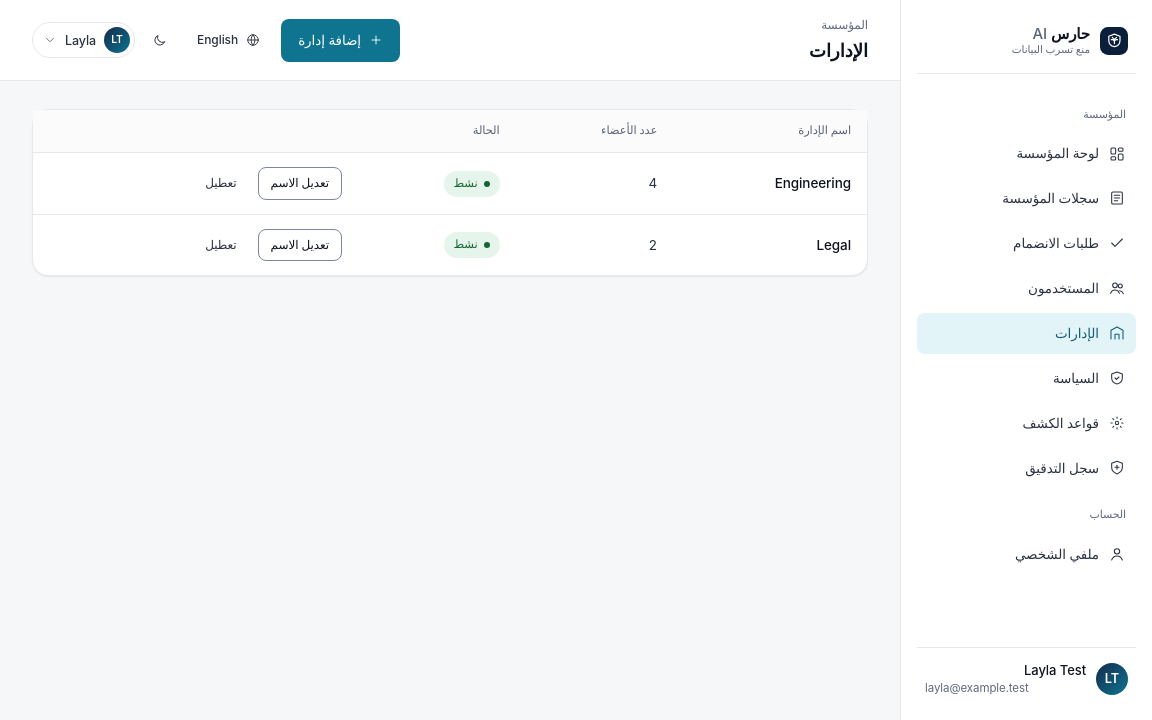
Test: departments › an empty name is refused before asking the server
What coordinates should you click on to do the following:
click the button "إضافة إدارة"
I would click on:
 (341, 40)
Its box is x1=281 y1=19 x2=400 y2=62.
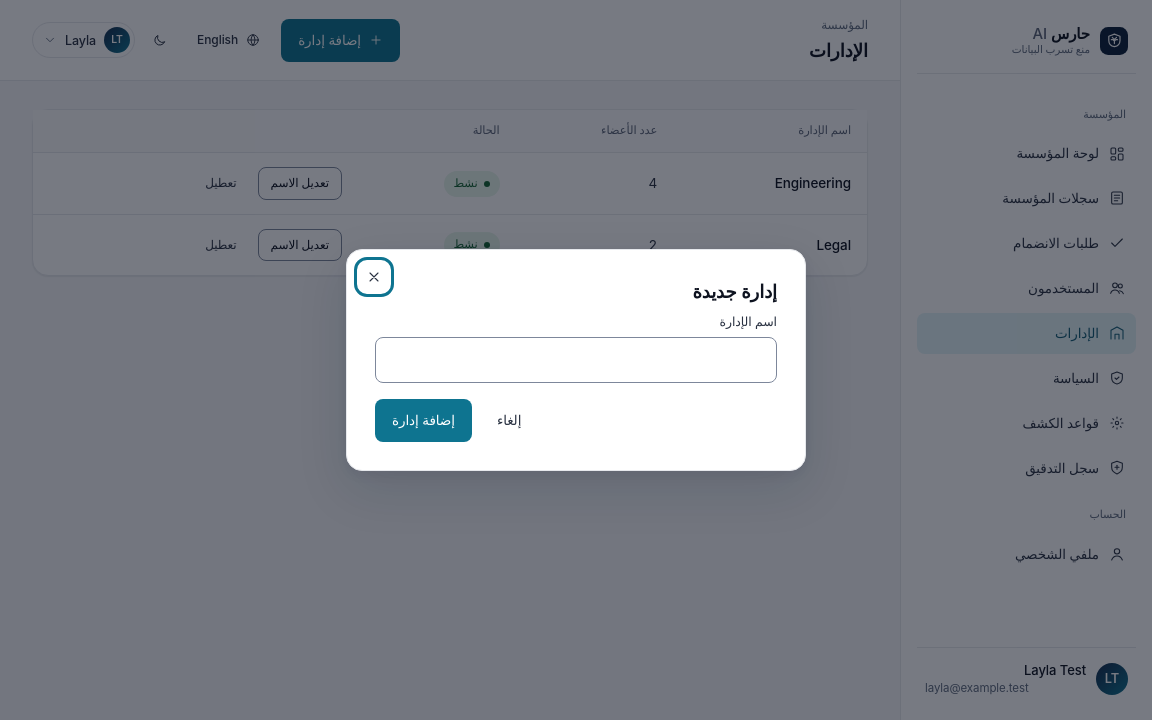
What coordinates should you click on to do the following:
click the button "إضافة إدارة"
I would click on:
 (423, 421)
Its box is x1=375 y1=399 x2=472 y2=442.
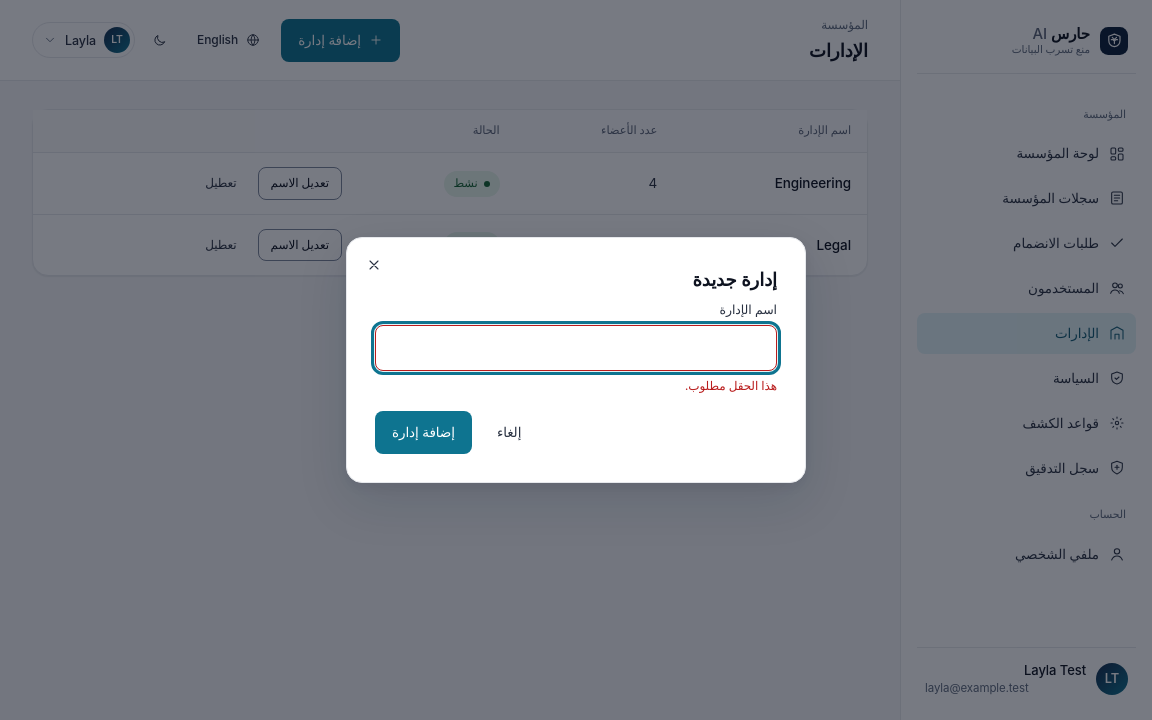
Expected: the text "هذا الحقل مطلوب." is shown, x1=685 y1=378 x2=777 y2=393
